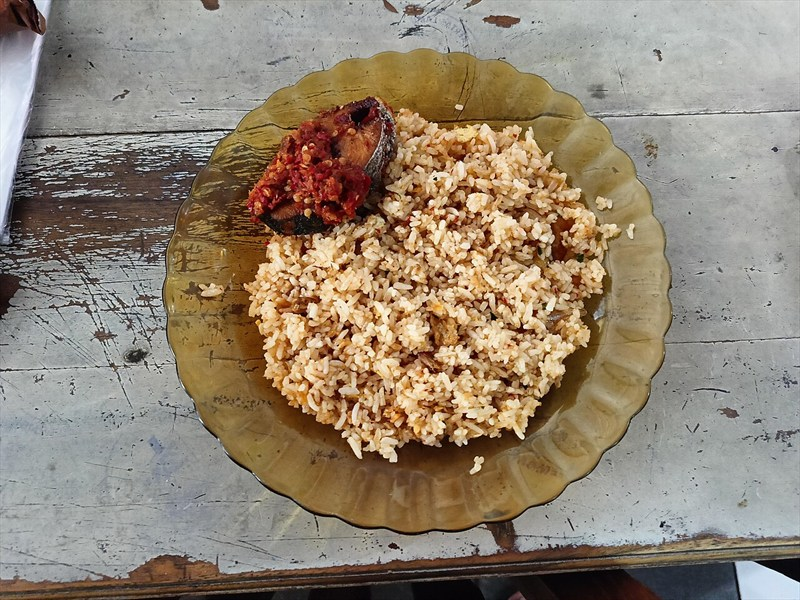Nasi Goreng: (212, 104, 608, 476)
